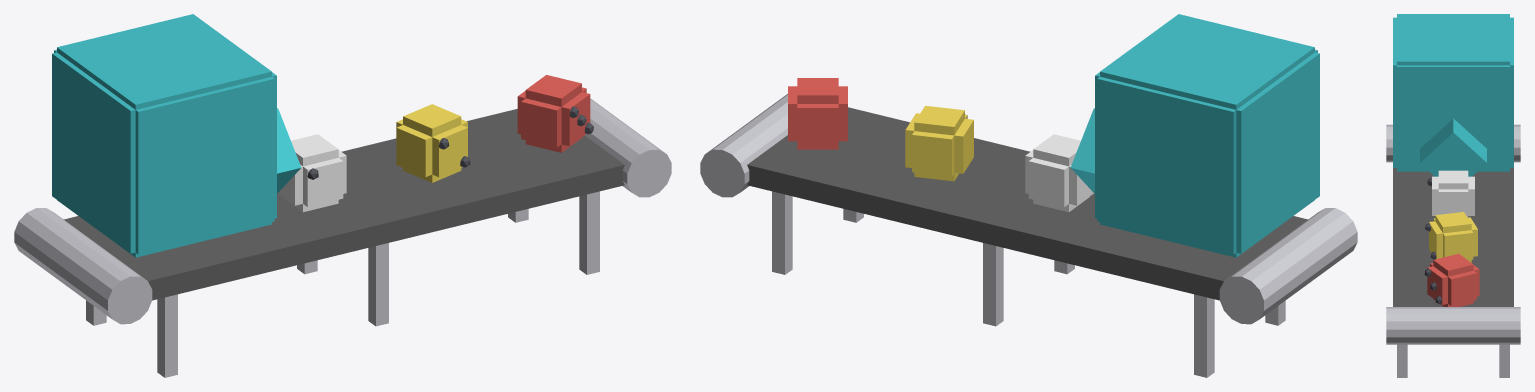
Rendered from gamefactory.glb.
3 views of the same model, side by side, from view 1: azimuth 30°, elevation 25°; view 2: azimuth 150°, elevation 25°; view 3: azimuth 270°, elevation 25° (orthographic). The views are drawn at different scales.
Visible parts, largest first — view 1: Hopper, Belt, Roller-1.6, Die1, Die2, Roller1.6, Die0, Leg1.3-0.38, Leg0-0.38, Leg-1.3-0.38, Chute; view 2: Hopper, Belt, Roller-1.6, Die1, Roller1.6, Die2, Die0, Leg1.30.38, Leg-1.30.38, Leg00.38, Chute; view 3: Hopper, Belt, Roller1.6, Chute, Die2, Die1, Die0, Roller-1.6, Leg1.3-0.38, Leg1.30.38.
Part boxes in pixels (x1=…): Hopper: x1=52, y1=14, x2=276, y2=257; Belt: x1=64, y1=109, x2=624, y2=300; Roller-1.6: x1=14, y1=208, x2=152, y2=324; Die1: x1=396, y1=104, x2=467, y2=182; Die2: x1=517, y1=75, x2=590, y2=152; Roller1.6: x1=585, y1=98, x2=671, y2=197; Die0: x1=278, y1=134, x2=346, y2=212; Leg1.3-0.38: x1=579, y1=191, x2=599, y2=274; Leg0-0.38: x1=368, y1=243, x2=388, y2=326; Leg-1.3-0.38: x1=157, y1=294, x2=177, y2=377; Chute: x1=277, y1=108, x2=301, y2=193; Hopper: x1=1095, y1=14, x2=1319, y2=257; Belt: x1=747, y1=107, x2=1307, y2=300; Roller-1.6: x1=1219, y1=208, x2=1357, y2=324; Die1: x1=905, y1=105, x2=973, y2=181; Roller1.6: x1=700, y1=94, x2=787, y2=197; Die2: x1=788, y1=78, x2=847, y2=149; Die0: x1=1025, y1=134, x2=1093, y2=212; Leg1.30.38: x1=772, y1=191, x2=792, y2=274; Leg-1.30.38: x1=1194, y1=294, x2=1214, y2=377; Leg00.38: x1=983, y1=243, x2=1003, y2=326; Chute: x1=1070, y1=108, x2=1094, y2=193; Hopper: x1=1393, y1=14, x2=1513, y2=171; Belt: x1=1393, y1=168, x2=1513, y2=306; Roller1.6: x1=1386, y1=307, x2=1520, y2=344; Chute: x1=1420, y1=118, x2=1486, y2=176; Die2: x1=1427, y1=253, x2=1479, y2=306; Die1: x1=1429, y1=212, x2=1477, y2=262; Die0: x1=1432, y1=170, x2=1474, y2=217; Roller-1.6: x1=1386, y1=124, x2=1520, y2=162; Leg1.3-0.38: x1=1397, y1=344, x2=1407, y2=377; Leg1.30.38: x1=1499, y1=344, x2=1509, y2=377.
Bounding box in the file's own units: 3.47 × 1.65 × 1.
